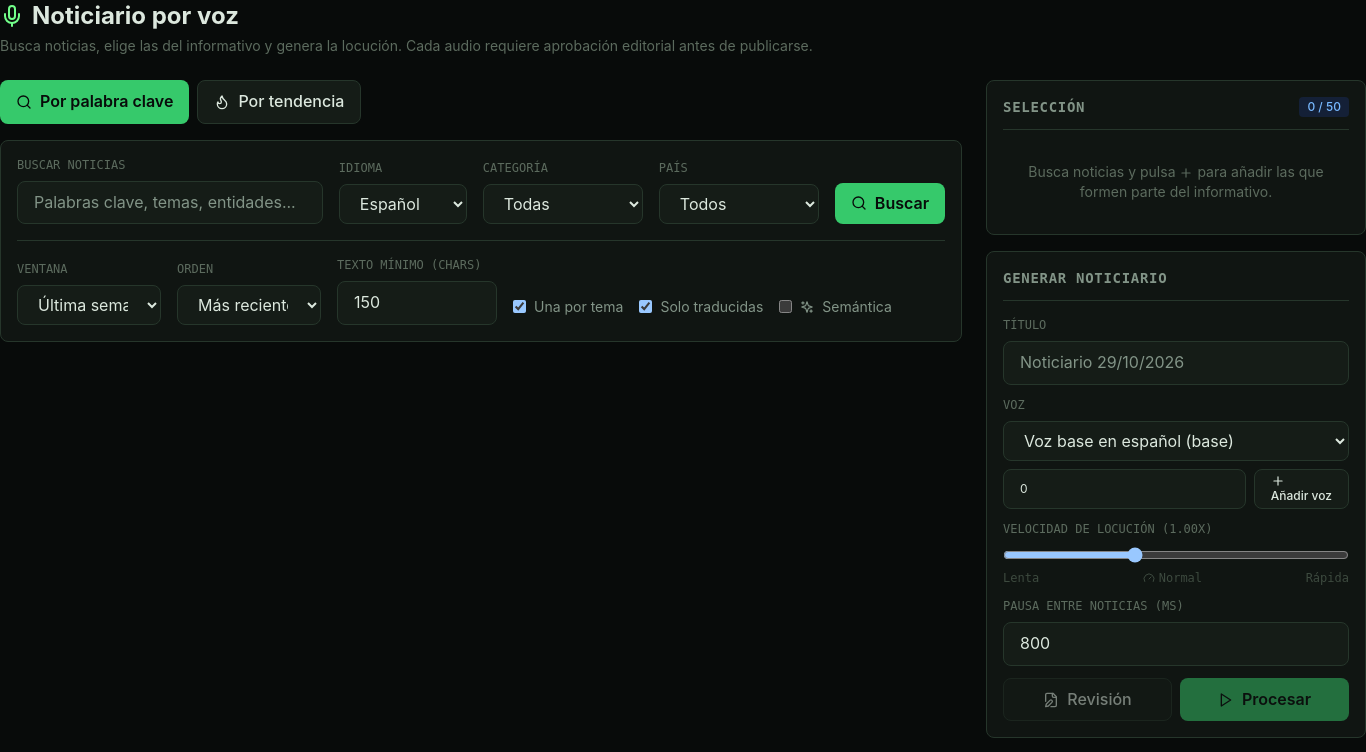
Pagina de noticiario › añade y quita noticias de la seleccion
Type "economia" into the field with placeholder "Palabras clave, temas, entidades..." at (170, 202), box [17,181,323,224]
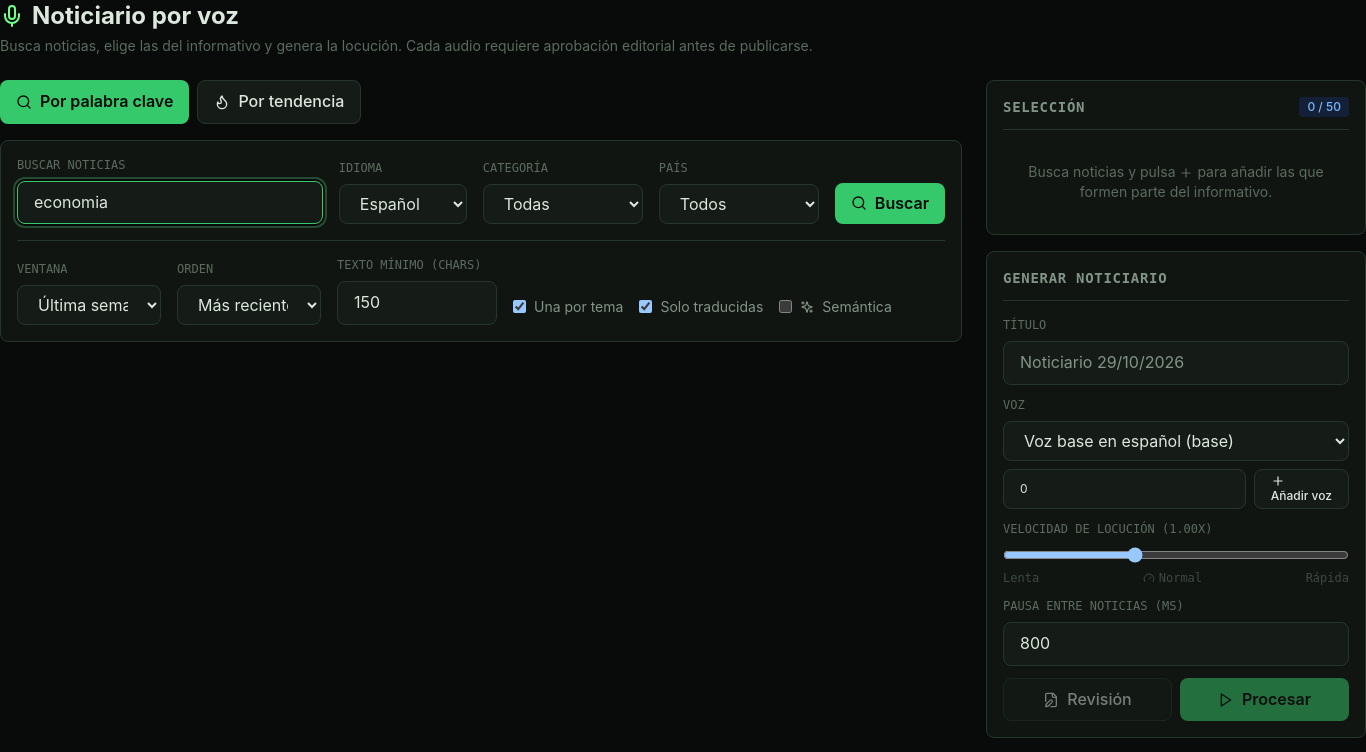
Click the button "Buscar" at (890, 203), box [835,183,945,224]
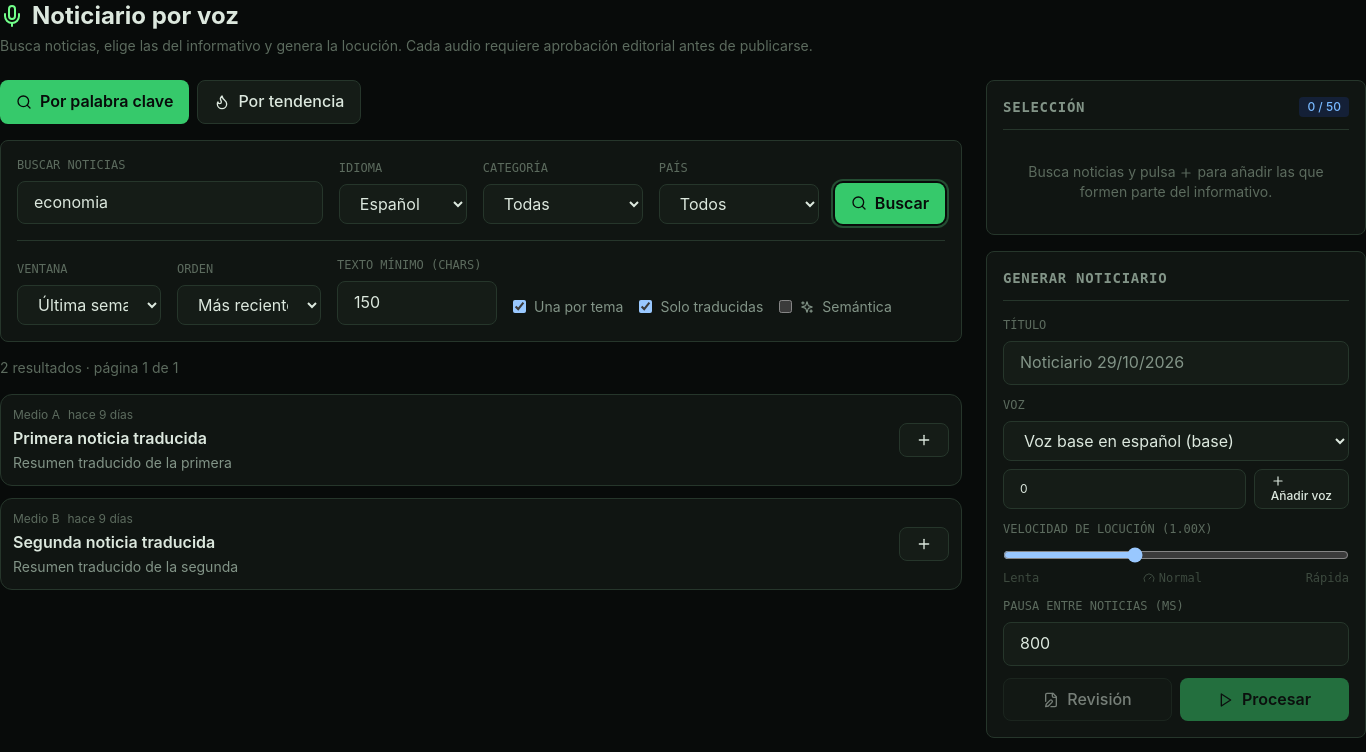
expect the heading "Primera noticia traducida" is shown: met, box [13,428,207,448]
Click the button titled "Añadir al noticiario" in the row of "Resumen traducido de la primera" at (924, 440), box [899,423,949,457]
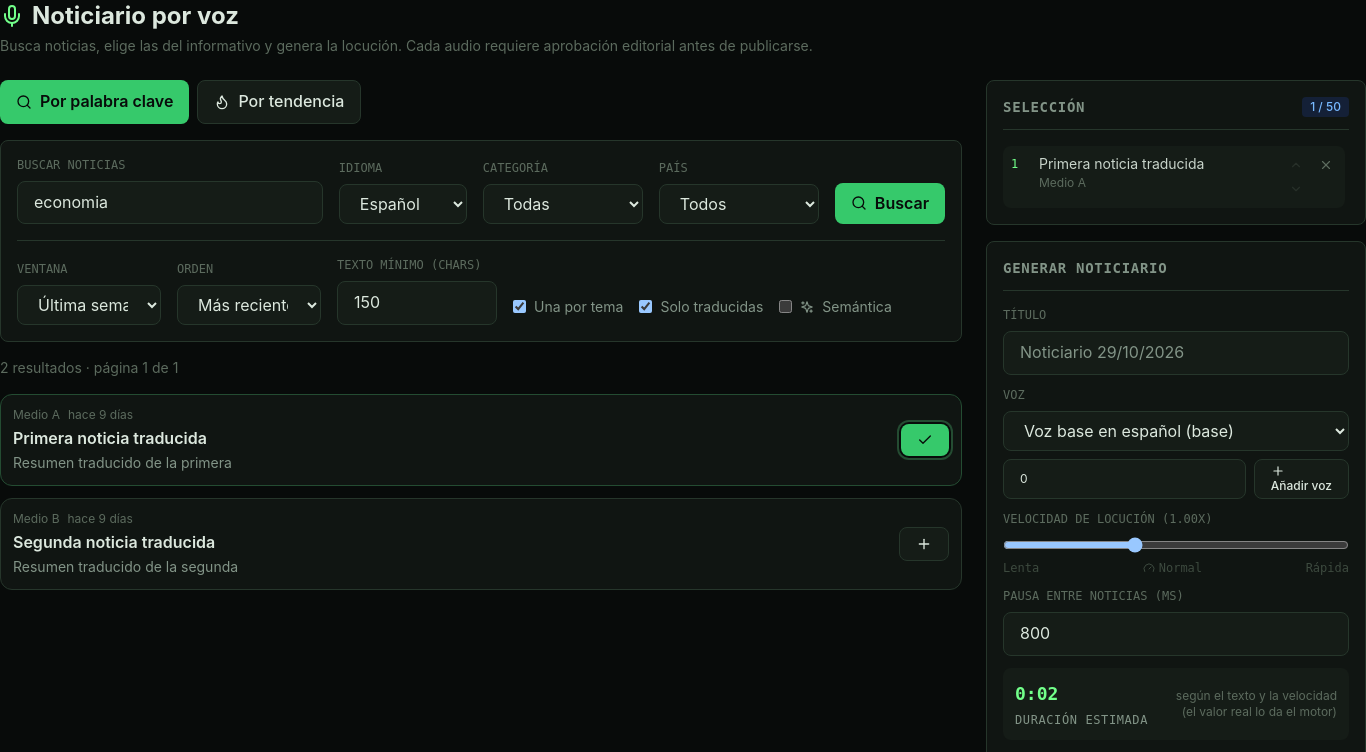
expect the text "1 / 50" is shown: met, box [1302,97,1349,117]
expect the text "Primera noticia traducida" is shown: met, box [1039,155,1204,172]
# Y se puede quitar.
Click the button titled "Quitar del noticiario" at (925, 440), box [901,424,949,456]
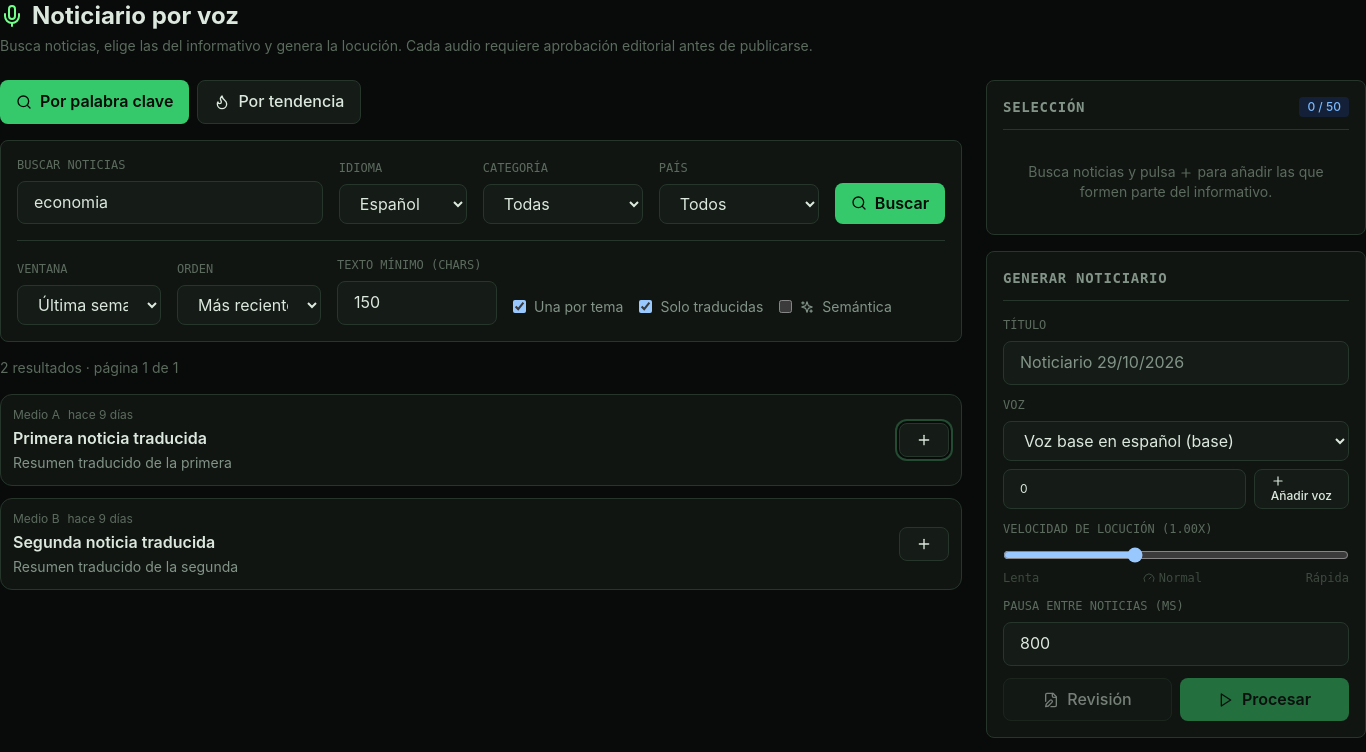
expect the text "0 / 50" is shown: met, box [1299,97,1349,117]
